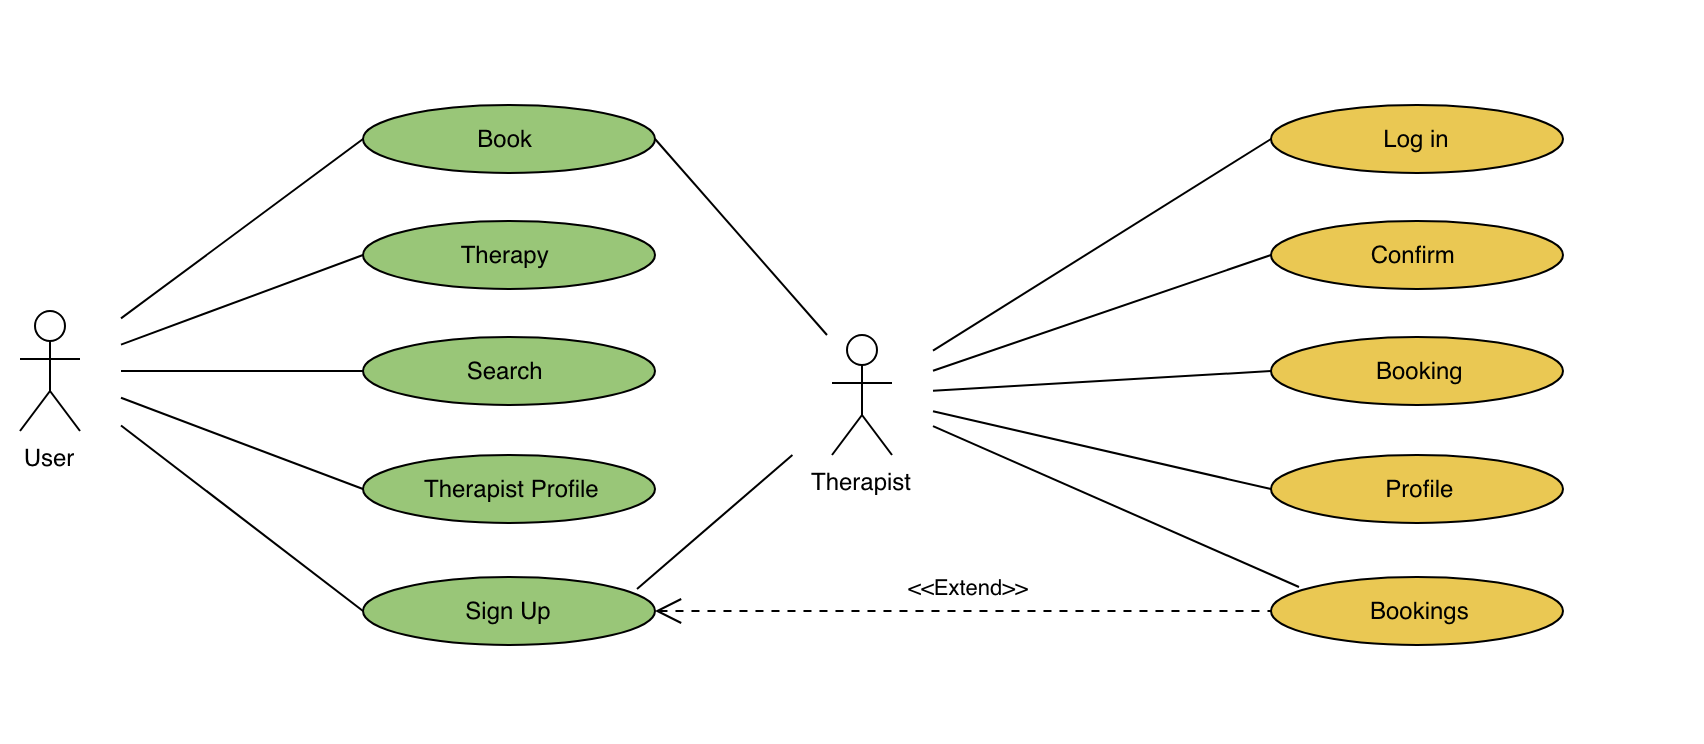actor: (9, 303, 91, 439), (827, 332, 897, 461)
association: (928, 137, 1271, 353), (928, 428, 1292, 587), (122, 140, 361, 325), (123, 425, 361, 609), (926, 253, 1268, 371), (657, 141, 828, 335), (931, 406, 1268, 492), (659, 592, 1271, 632), (120, 392, 361, 491), (117, 254, 363, 345), (639, 449, 797, 589), (927, 358, 1267, 396), (124, 351, 363, 388)
text: (419, 474, 616, 510), (890, 565, 1033, 606), (811, 465, 922, 506), (1371, 470, 1478, 513), (456, 588, 561, 629), (1362, 594, 1484, 628), (1360, 238, 1481, 272), (453, 236, 557, 274), (1365, 355, 1474, 390), (1365, 124, 1461, 163), (465, 119, 549, 157), (459, 357, 565, 387), (17, 443, 86, 479)
use_case: (359, 450, 659, 529), (360, 101, 660, 179), (1267, 100, 1567, 177), (356, 332, 659, 408), (1267, 217, 1567, 293), (361, 217, 657, 293), (1271, 333, 1568, 409), (360, 573, 660, 648), (1271, 450, 1567, 526), (1271, 573, 1567, 650)
